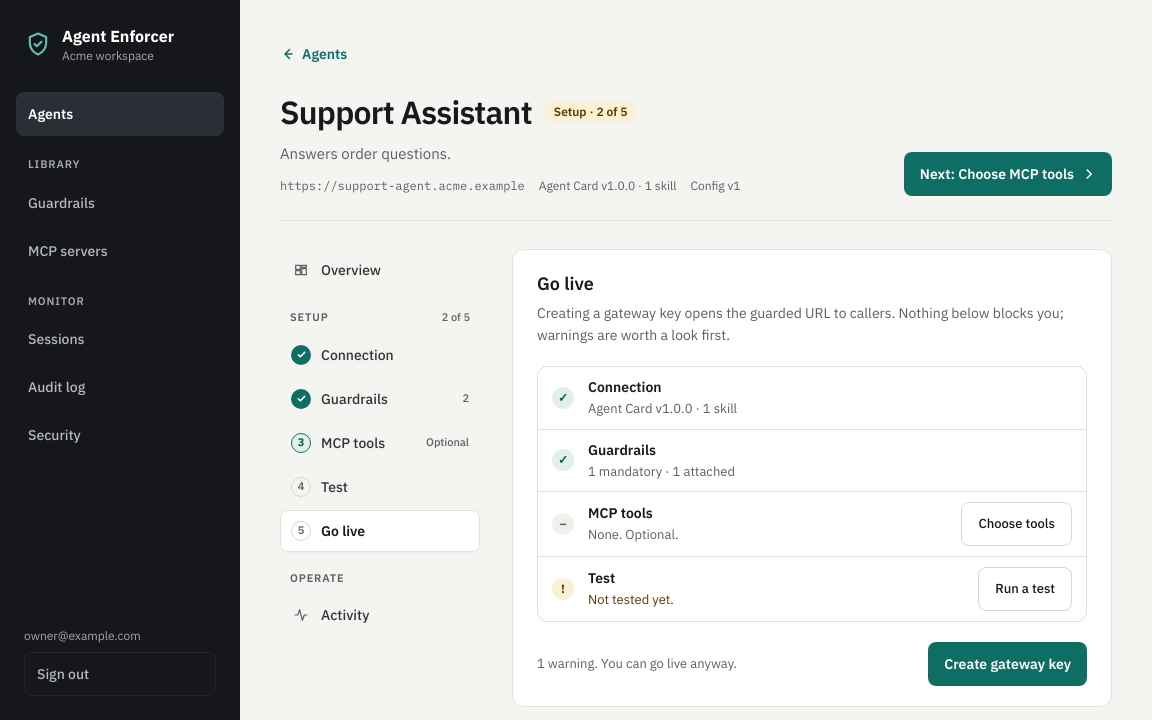
Test: Agent go live step › shows the API's message when the key can't be saved
Check: the heading "Support Assistant" is shown, box [280,88,532,136]
Click the button "Create gateway key": coordinates (1008, 664) [928,642,1087,686]
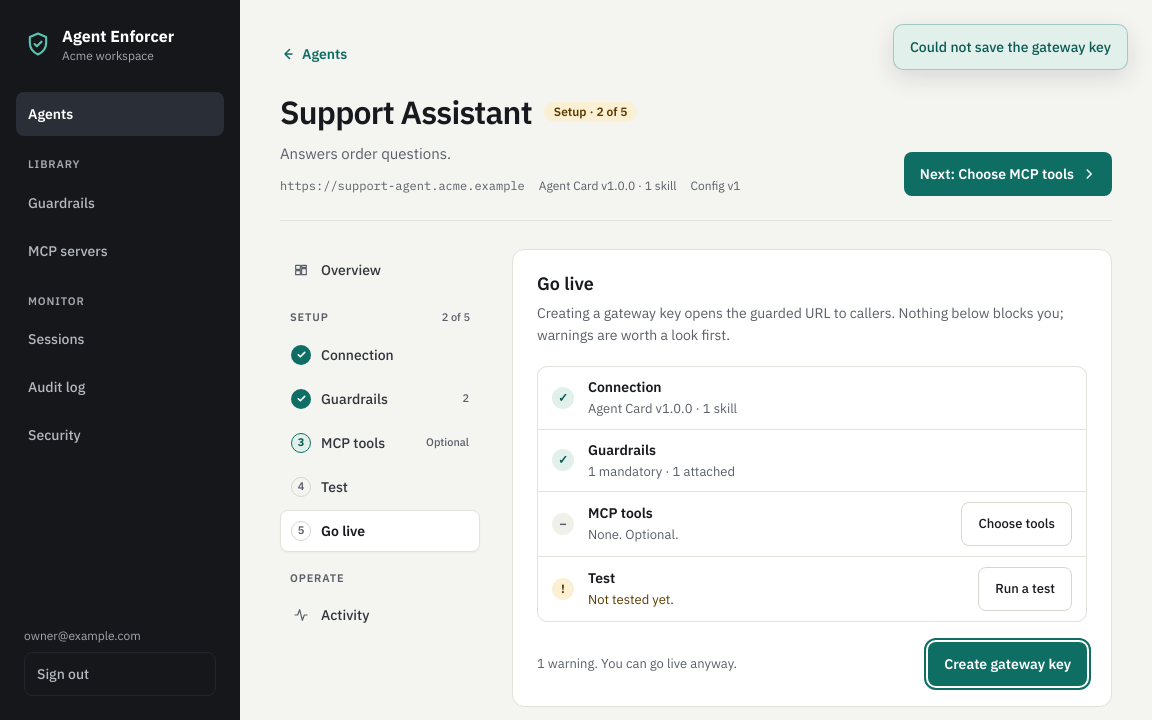
Check: the message reads "Could not save the gateway key", box [910,38,1111,56]
